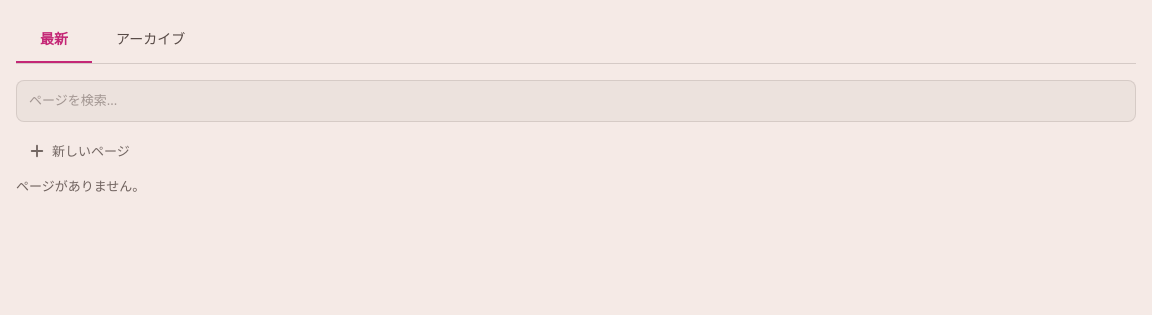
Scenario: Sidebar › archive search › shows no-results message when archive search matches nothing
This screenshot has width=1152, height=315.
Click the tab "アーカイブ": (151, 40) [92,16,209,63]
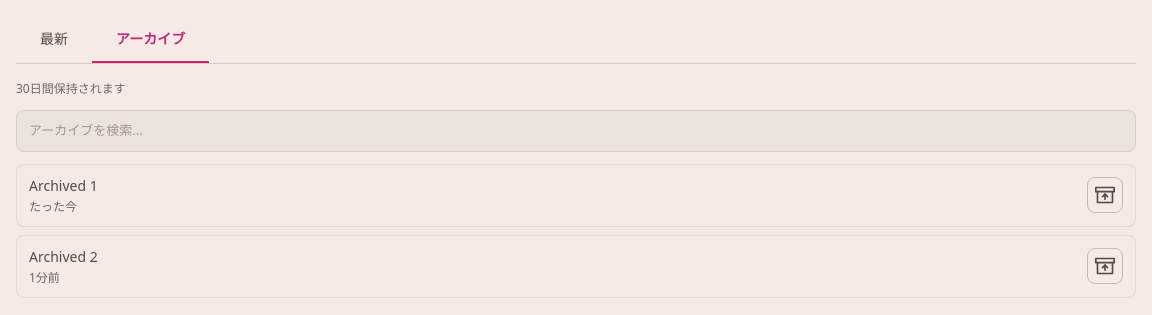
In the field labelled "アーカイブを検索": (576, 131) [16,110,1136,152], type "zzz-nonexistent"
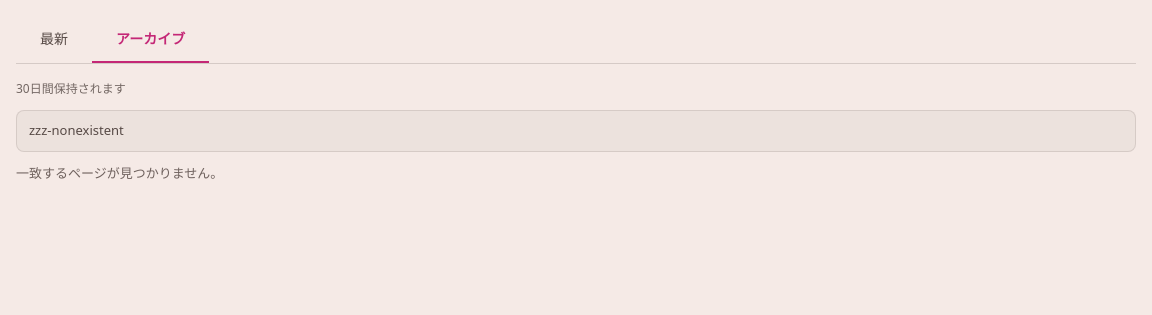
Now the text "一致するページが見つかりません。" is shown, box [16,164,223,182]
